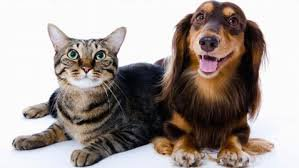cat: (26, 20, 152, 161)
dog: (157, 1, 276, 166)
